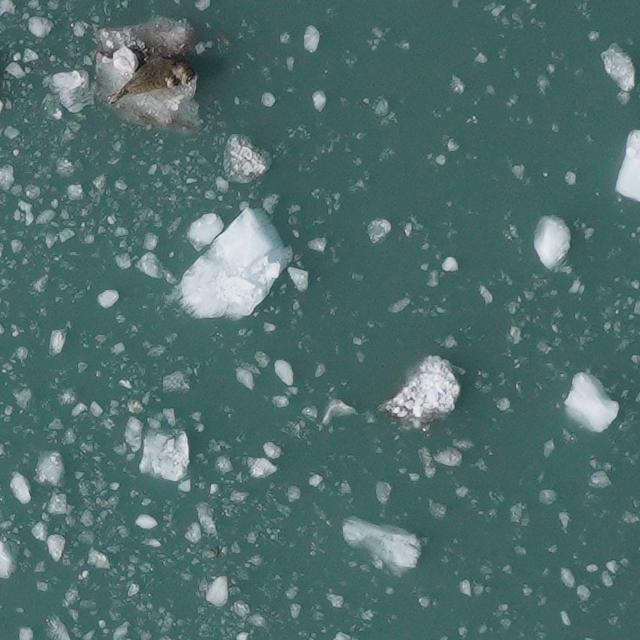seal: (103, 49, 203, 110)
